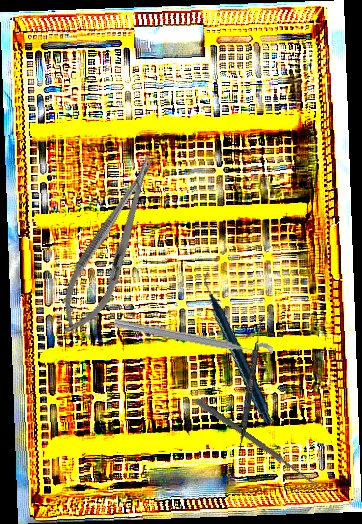Fixation Ring: (110, 313, 275, 372)
Handpiece: (175, 271, 302, 425)
Needle Holder: (47, 147, 174, 344)
Spatula Surgical: (236, 315, 265, 457)
Surgical Spoon: (195, 398, 320, 489)
